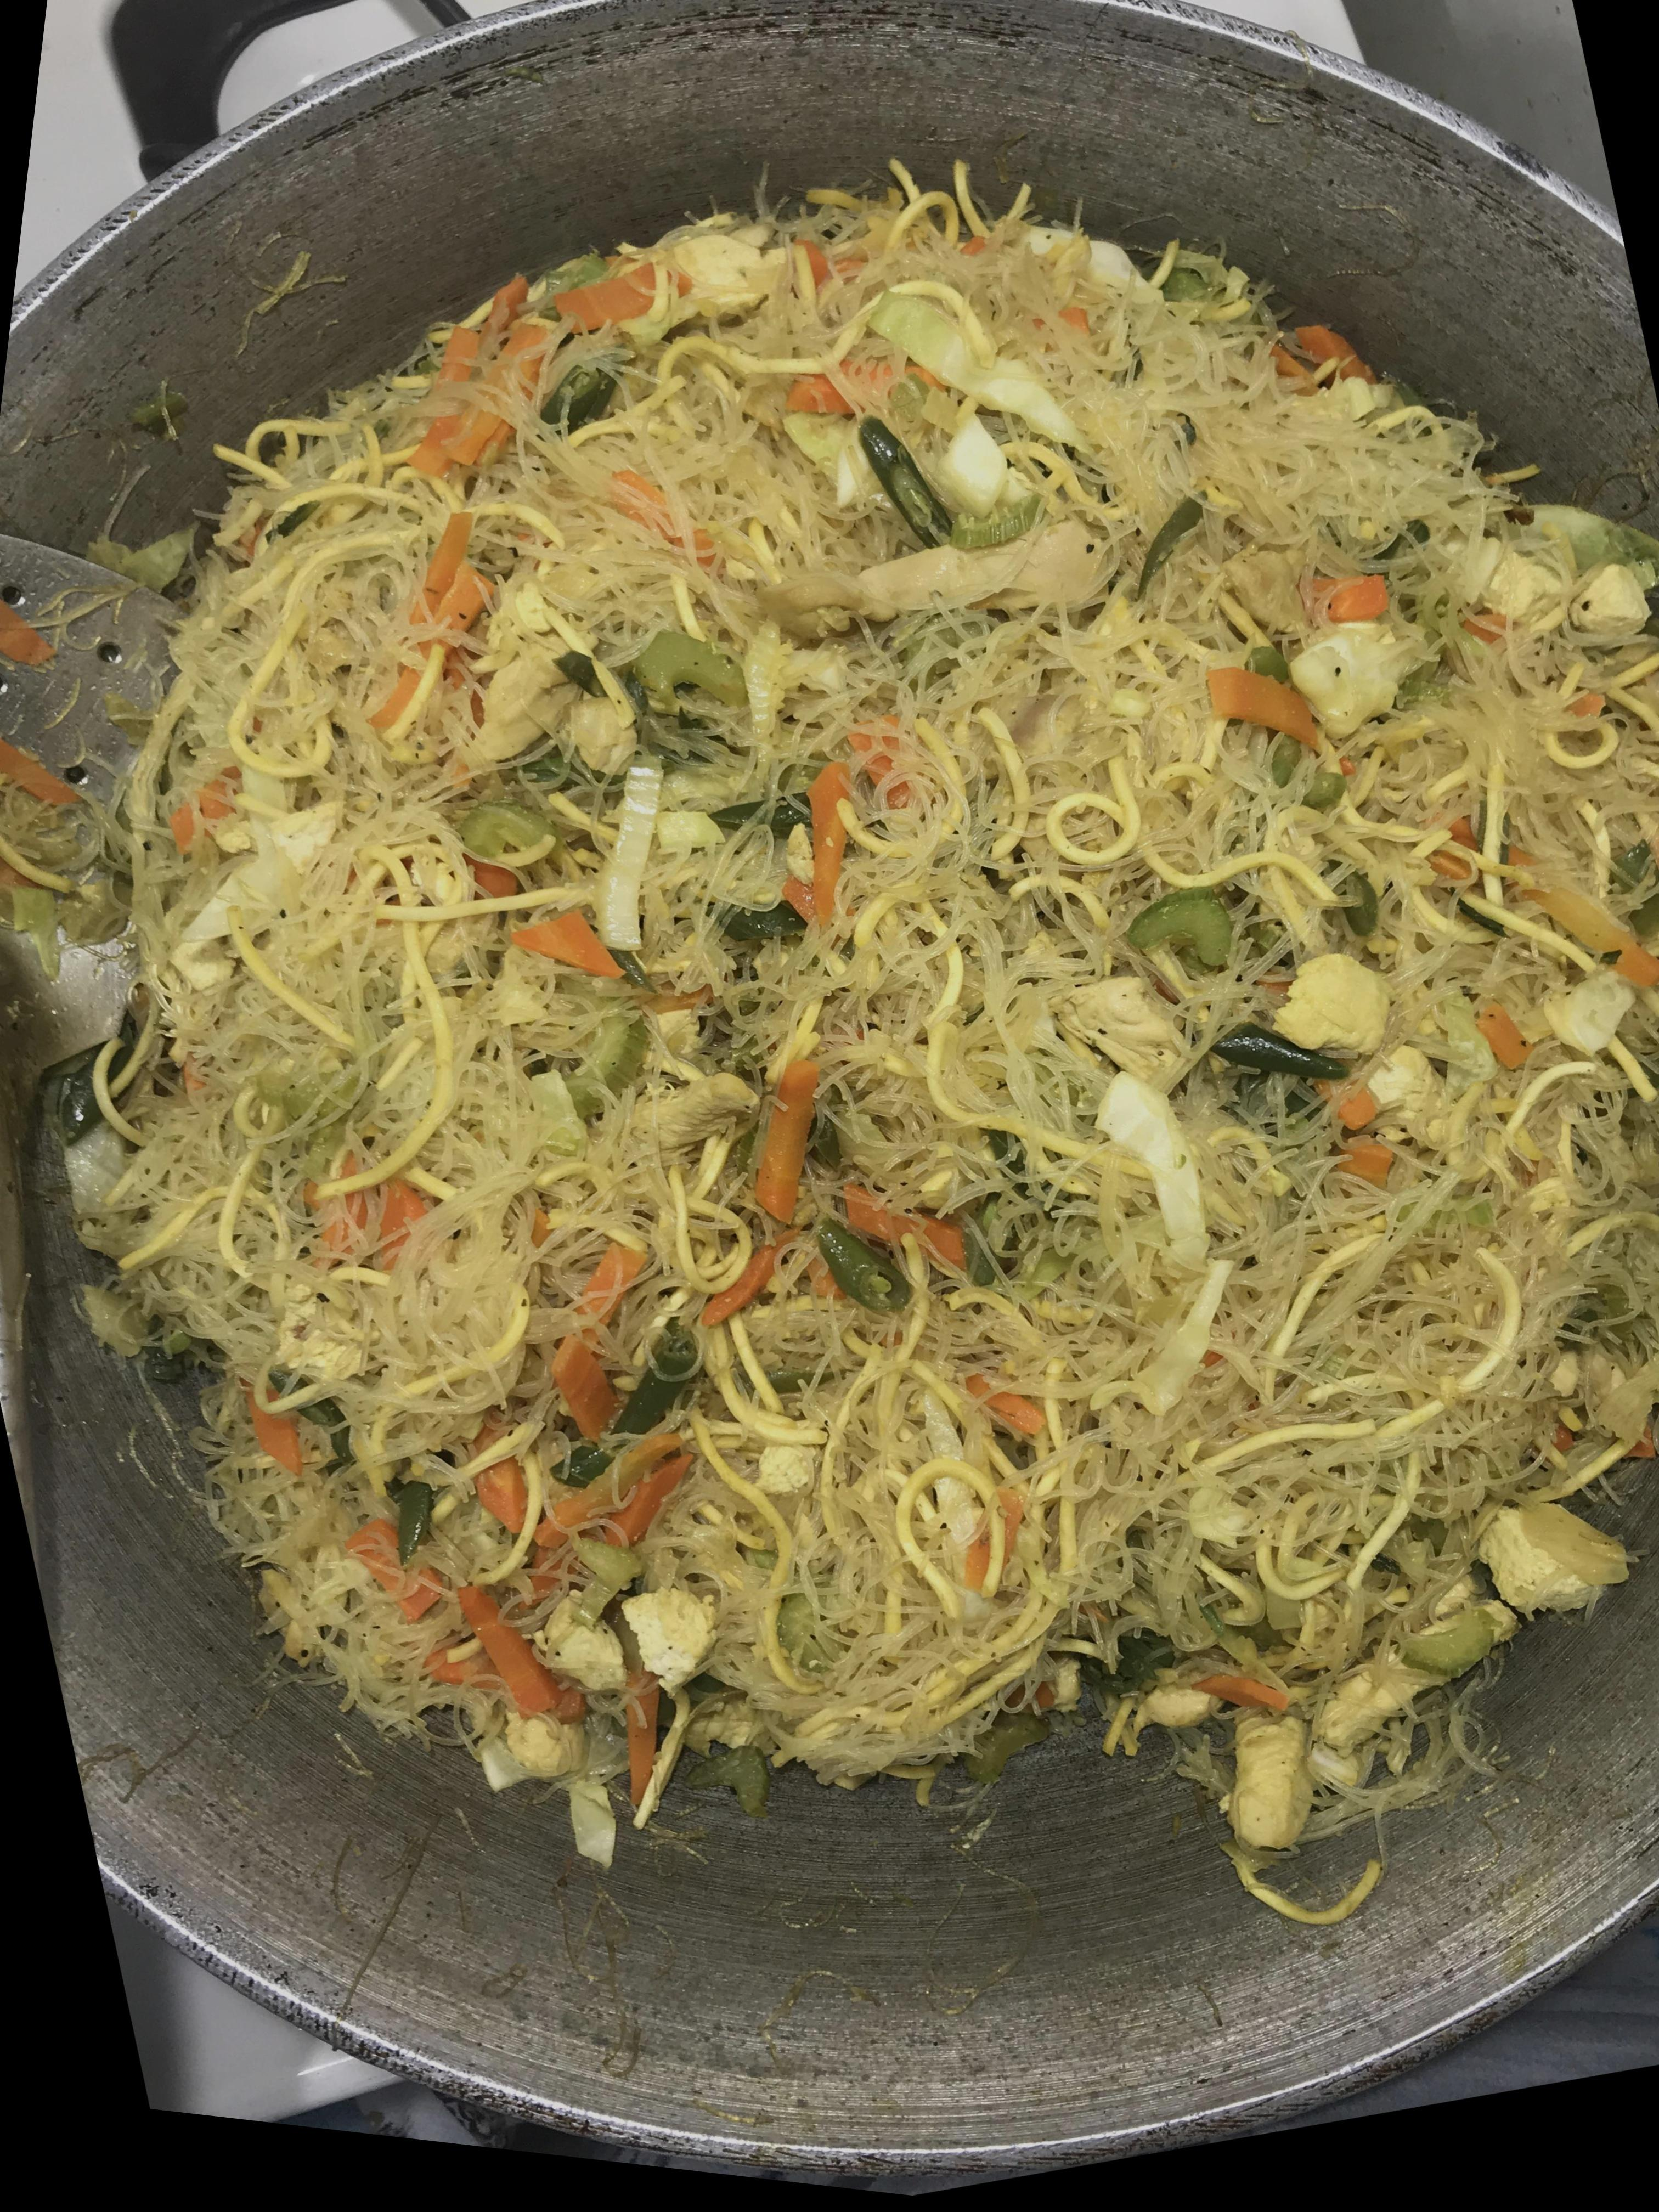pancit bihon: (138, 174, 1659, 1771)
